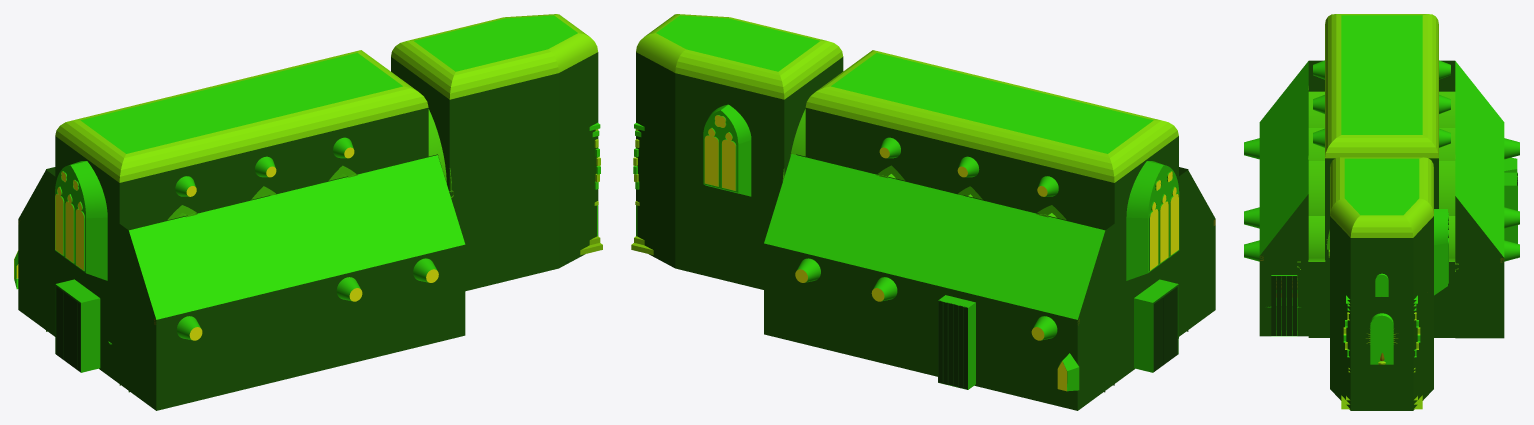
Rendered from interior.glb.
The picture shows the model from 3 angles, left to right: view 1: azimuth 30°, elevation 25°; view 2: azimuth 150°, elevation 25°; view 3: azimuth 270°, elevation 25°; orthographic projection. The views are drawn at different scales.
Visible parts, largest first — view 1: Arch, Glass, Props, DoorR, DoorL; view 2: Arch, Glass, Props, DoorL, DoorR; view 3: Arch, Props.
Boxes of the visible parts, left/top/right/bottom form: Arch: left=14, top=14, right=598, bottom=410; Glass: left=14, top=147, right=438, bottom=340; Props: left=167, top=122, right=602, bottom=263; DoorR: left=68, top=295, right=80, bottom=371; DoorL: left=56, top=287, right=68, bottom=362; Arch: left=636, top=14, right=1215, bottom=410; Glass: left=704, top=115, right=1178, bottom=391; Props: left=631, top=123, right=1067, bottom=389; DoorL: left=1154, top=295, right=1165, bottom=371; DoorR: left=1166, top=287, right=1177, bottom=362; Arch: left=1244, top=14, right=1519, bottom=410; Props: left=1267, top=85, right=1517, bottom=409.
Size of what is drawn, in the model's own units: 16.31 by 6.63 by 8.46.
